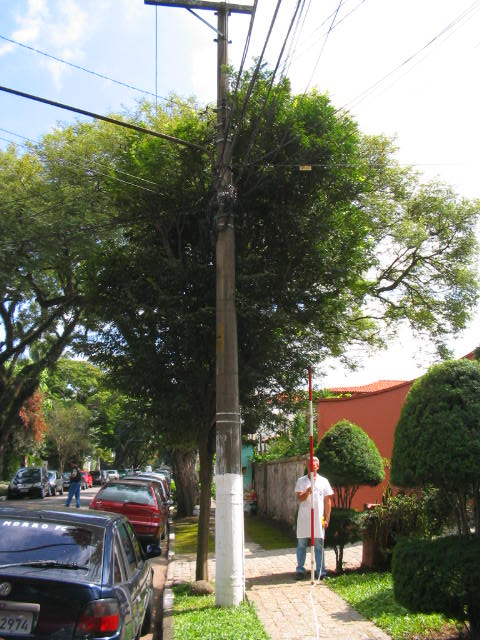crown: (65, 59, 476, 452)
stem: (186, 448, 217, 580)
stick: (297, 366, 326, 584)
tree: (63, 58, 478, 581)
